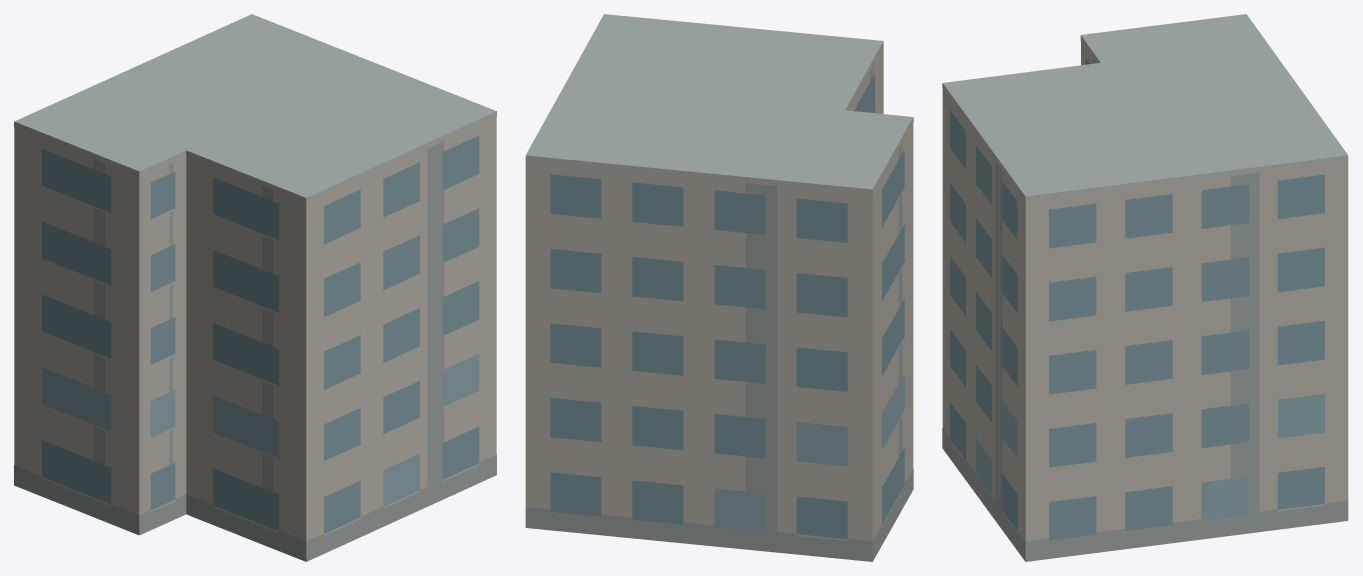
File: survey-upis-32767192.glb
3 renders of one model, left to right at view 1: azimuth 30°, elevation 25°; view 2: azimuth 150°, elevation 25°; view 3: azimuth 270°, elevation 25°, orthographic. The views are drawn at different scales.
Parts seen in each view (by area): view 1: survey-upis-32767192.tmp; view 2: survey-upis-32767192.tmp; view 3: survey-upis-32767192.tmp.
Part boxes in pixels (x1=…): survey-upis-32767192.tmp: x1=14, y1=14, x2=496, y2=561; survey-upis-32767192.tmp: x1=525, y1=14, x2=913, y2=561; survey-upis-32767192.tmp: x1=942, y1=14, x2=1348, y2=561.
Bounding box in the file's own units: 16.34 × 15.25 × 15.36.
